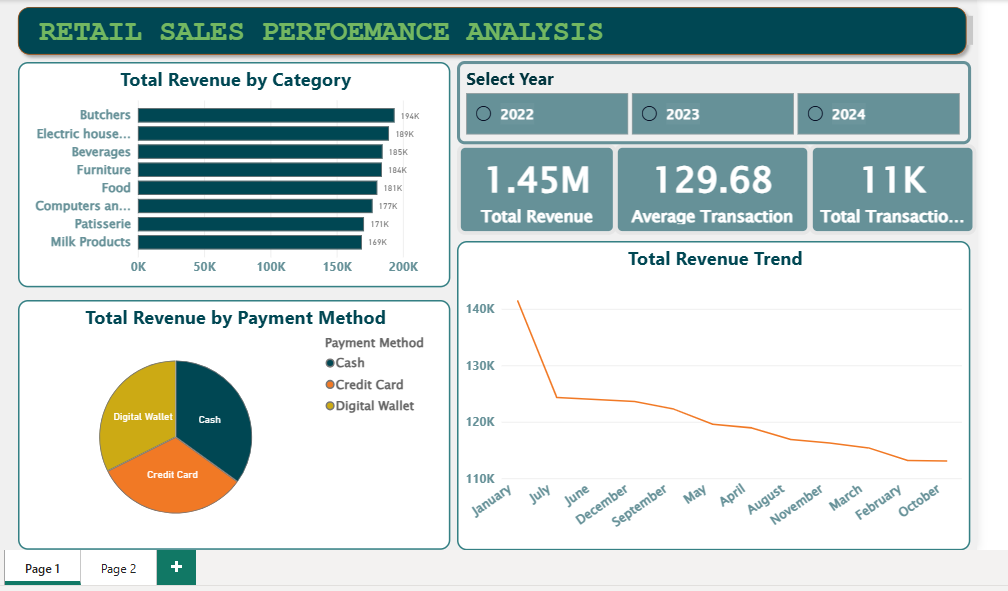

The dashboard page shown, as its layout file describes it:
{"tool":"powerbi","page":{"name":"Page 1","canvas":[1280,720],"ordinal":0},"visuals":[{"type":"lineChart","title":"Total Revenue Trend","fields":{"Category":["Cleaned Data.Month"],"Y":["Cleaned Data.Total Revenue"]},"box":[599.9,315.4,672.5,404.6],"z":0},{"type":"card","fields":{"Values":["Cleaned Data.Total Revenue"]},"box":[599.6,188.5,209.5,119.1],"z":1000},{"type":"card","fields":{"Values":["Cleaned Data.Total Transactions"]},"box":[1060.4,188.5,218.6,119.1],"z":2000},{"type":"barChart","fields":{"Category":["Cleaned Data.Category"],"Y":["Cleaned Data.Total Revenue"]},"box":[24.5,80.6,565.9,295.2],"z":3000},{"type":"card","fields":{"Values":["Cleaned Data.Average Transaction"]},"box":[805.1,188.5,257.9,119.1],"z":4000},{"type":"advancedSlicerVisual","title":"Select Year","fields":{"Values":["Cleaned Data.Transaction Date.Variation.Date Hierarchy.Year"]},"box":[599.6,79.9,672.9,108.7],"z":5000},{"type":"shape","box":[15.1,0,1259.8,80.6],"z":6000},{"type":"textbox","box":[47,15.1,1233,50.4],"z":7000},{"type":"pieChart","fields":{"Category":["Cleaned Data.Payment Method"],"Y":["Cleaned Data.Total Revenue"]},"box":[24.5,393.1,565.9,326.9],"z":8000}]}

Visuals, with their boxes in screenshot pixels (x1, y1, x2, y2):
"Total Revenue Trend" lineChart: rect(457, 234, 961, 537)
card - Cleaned Data.Total Revenue: rect(457, 139, 614, 228)
card - Cleaned Data.Total Transactions: rect(802, 139, 966, 228)
barChart - Cleaned Data.Category x Cleaned Data.Total Revenue: rect(26, 58, 450, 279)
card - Cleaned Data.Average Transaction: rect(611, 139, 804, 228)
"Select Year" advancedSlicerVisual: rect(457, 57, 961, 139)
shape: rect(19, 0, 963, 58)
textbox: rect(43, 9, 967, 46)
pieChart - Cleaned Data.Payment Method x Cleaned Data.Total Revenue: rect(26, 292, 450, 537)
